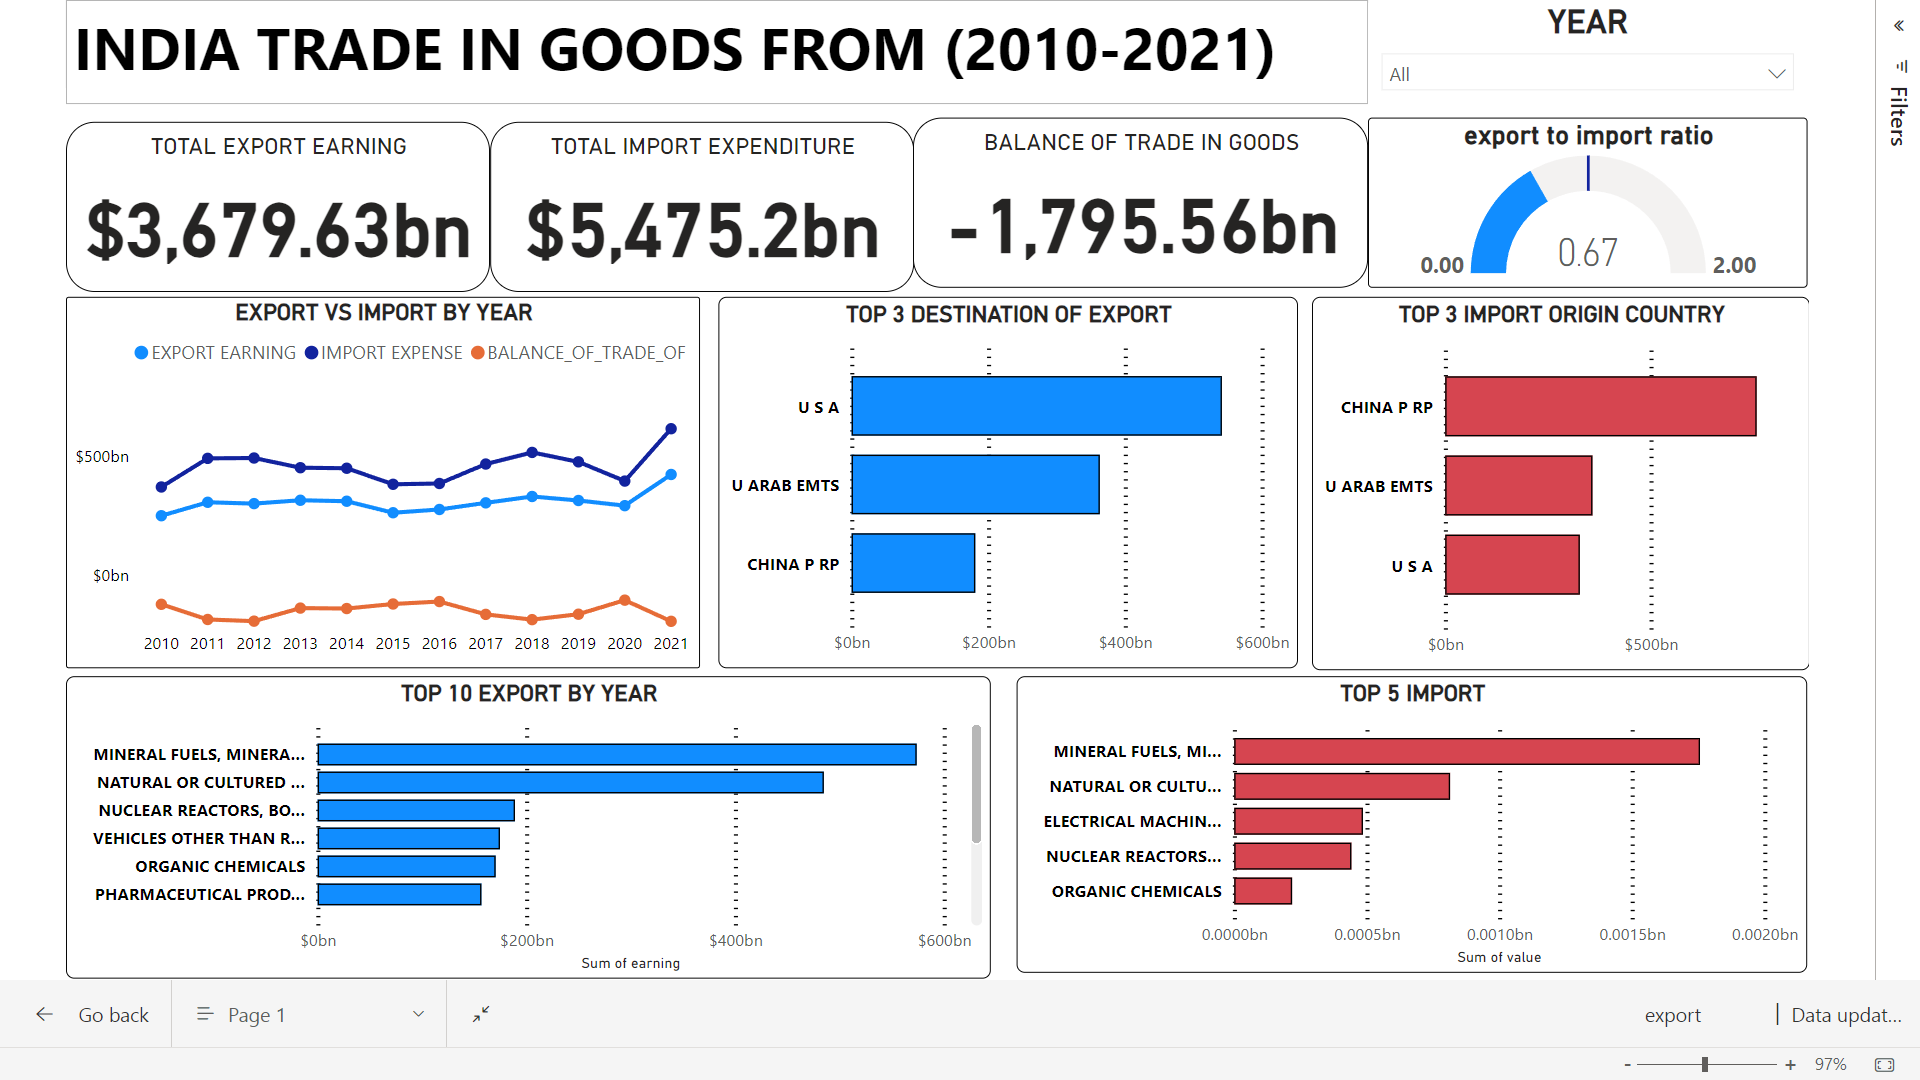

This screenshot's page, from the dashboard's own definition file:
{"tool":"powerbi","page":{"name":"Page 1","canvas":[1280,720],"ordinal":0},"visuals":[{"type":"textbox","box":[0,0,956.7,76.5],"z":0},{"type":"slicer","title":"YEAR","fields":{"Values":["2010_2021_HS2_import.year"]},"box":[956.7,1.7,322.8,74.9],"z":1000},{"type":"card","title":"TOTAL EXPORT EARNING","fields":{"Values":["Sum(2010_2021_HS2_export.earning)"]},"box":[0,89.9,311.1,124.8],"z":2000},{"type":"card","title":"TOTAL IMPORT EXPENDITURE","fields":{"Values":["Sum(2010_2021_HS2_import.expense_on_import)"]},"box":[311.1,89.9,311.1,124.8],"z":3000},{"type":"card","title":"BALANCE OF TRADE IN GOODS","fields":{"Values":["2010_2021_HS2_import.BALANCE_OF_TRADE_OF"]},"box":[622.3,86.5,334.4,124.8],"z":4000},{"type":"gauge","fields":{"Y":["2010_2021_HS2_export.export to import ratio"]},"box":[956.7,86.5,322.8,124.8],"z":6000},{"type":"lineChart","title":"EXPORT VS IMPORT BY YEAR","fields":{"Category":["2010_2021_HS2_export.year"],"Y":["Sum(2010_2021_HS2_export.earning)","Sum(2010_2021_HS2_import.expense_on_import)","2010_2021_HS2_import.BALANCE_OF_TRADE_OF"]},"box":[0,217.9,465.7,273.1],"z":7000},{"type":"barChart","title":"TOP 10 EXPORT BY YEAR","fields":{"Category":["2010_2021_HS2_export.Commodity"],"Y":["Sum(2010_2021_HS2_export.earning)"]},"box":[0,497,679.1,222.4],"z":7001},{"type":"barChart","title":"TOP 5 IMPORT","fields":{"Category":["2010_2021_HS2_import.Commodity"],"Y":["Sum(2010_2021_HS2_import.value)"]},"box":[698.5,497,580.6,217.9],"z":7002},{"type":"barChart","title":"TOP 3 DESTINATION OF EXPORT","fields":{"Category":["2010_2021_HS2_export.country"],"Y":["Sum(2010_2021_HS2_export.earning)"]},"box":[479.1,217.9,425.4,273.1],"z":7003},{"type":"barChart","title":"TOP 3 IMPORT  ORIGIN COUNTRY","fields":{"Y":["Sum(2010_2021_HS2_import.expense_on_import)"],"Category":["2010_2021_HS2_import.country"]},"box":[914.9,217.9,365.7,274.6],"z":7004}]}

Visuals, with their boxes on the page's 1280x720 design canvas (x1, y1, x2, y2). These are canvas units, not pixel positions in the 1920x1080 screenshot, which may show the page scaled, cropped or inside an application window:
textbox: l=0, t=0, r=957, b=76
"YEAR" slicer: l=957, t=2, r=1280, b=77
"TOTAL EXPORT EARNING" card: l=0, t=90, r=311, b=215
"TOTAL IMPORT EXPENDITURE" card: l=311, t=90, r=622, b=215
"BALANCE OF TRADE IN GOODS" card: l=622, t=86, r=957, b=211
gauge - 2010_2021_HS2_export.export to import ratio: l=957, t=86, r=1280, b=211
"EXPORT VS IMPORT BY YEAR" lineChart: l=0, t=218, r=466, b=491
"TOP 10 EXPORT BY YEAR" barChart: l=0, t=497, r=679, b=719
"TOP 5 IMPORT" barChart: l=698, t=497, r=1279, b=715
"TOP 3 DESTINATION OF EXPORT" barChart: l=479, t=218, r=904, b=491
"TOP 3 IMPORT  ORIGIN COUNTRY" barChart: l=915, t=218, r=1281, b=492
